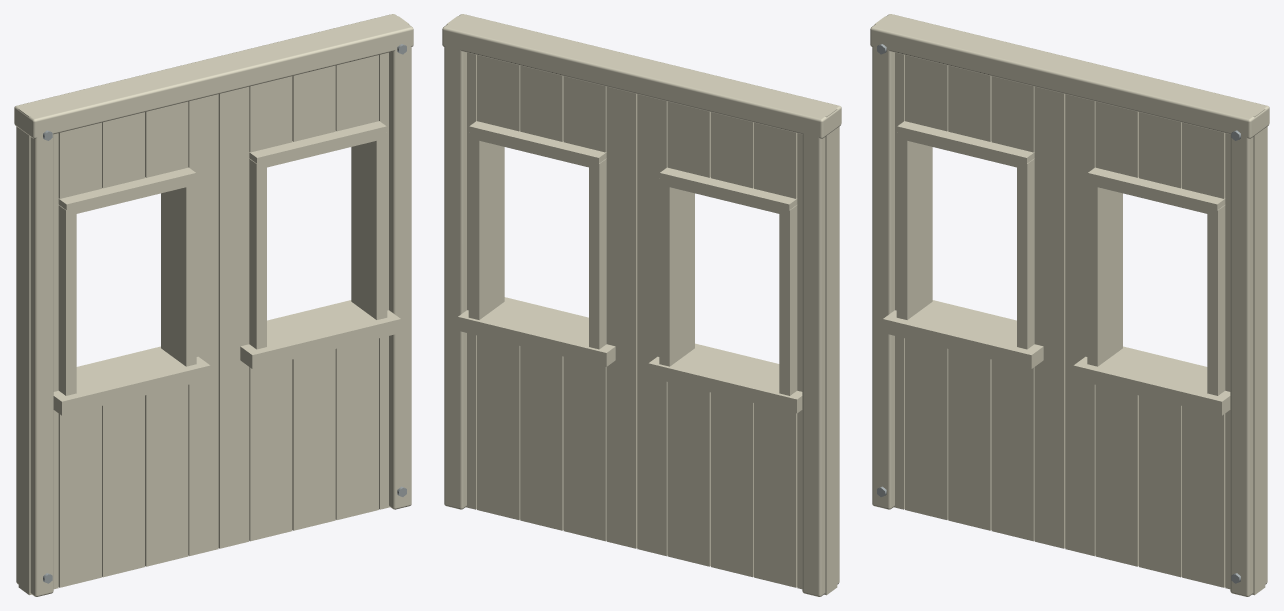
File: suburban-outbreak-interiors-room-double-window-475aecb1__19875.glb
3 renders of one model, left to right at view 1: azimuth 30°, elevation 25°; view 2: azimuth 150°, elevation 25°; view 3: azimuth 330°, elevation 25°, orthographic.
Visible parts, largest first — view 1: room-double-window; view 2: room-double-window; view 3: room-double-window.
Boxes of the visible parts, x1=… form: room-double-window: x1=14, y1=14, x2=413, y2=596; room-double-window: x1=442, y1=14, x2=841, y2=596; room-double-window: x1=870, y1=14, x2=1269, y2=596.
Size of the model in its own units: 2 by 2.4 by 0.29.
